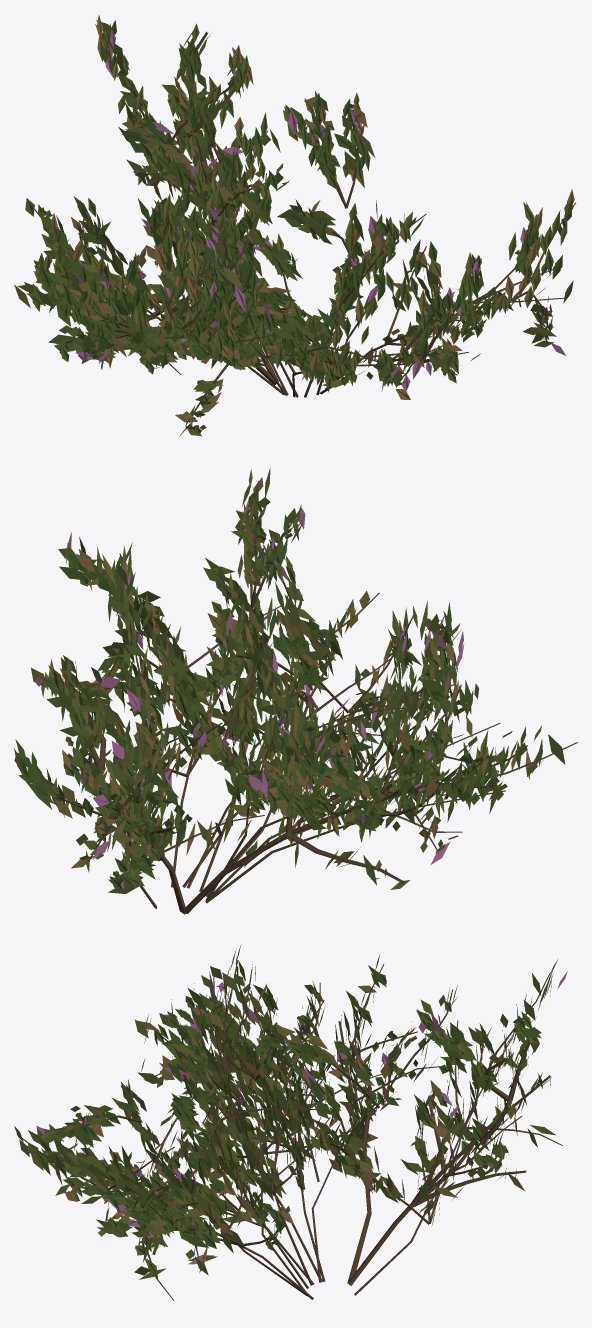
Rendered from heather_a.glb.
3 views of the same model, one above another, from view 1: azimuth 30°, elevation 25°; view 2: azimuth 150°, elevation 25°; view 3: azimuth 270°, elevation 25° (orthographic). The views are drawn at different scales.
Visible parts, largest first — view 1: heather_a; view 2: heather_a; view 3: heather_a.
Part boxes in pixels (x1=…): heather_a: x1=14, y1=14, x2=575, y2=436; heather_a: x1=14, y1=468, x2=577, y2=914; heather_a: x1=14, y1=944, x2=567, y2=1300.
Size of the model in its own units: 0.6376 by 0.4383 by 0.681.
